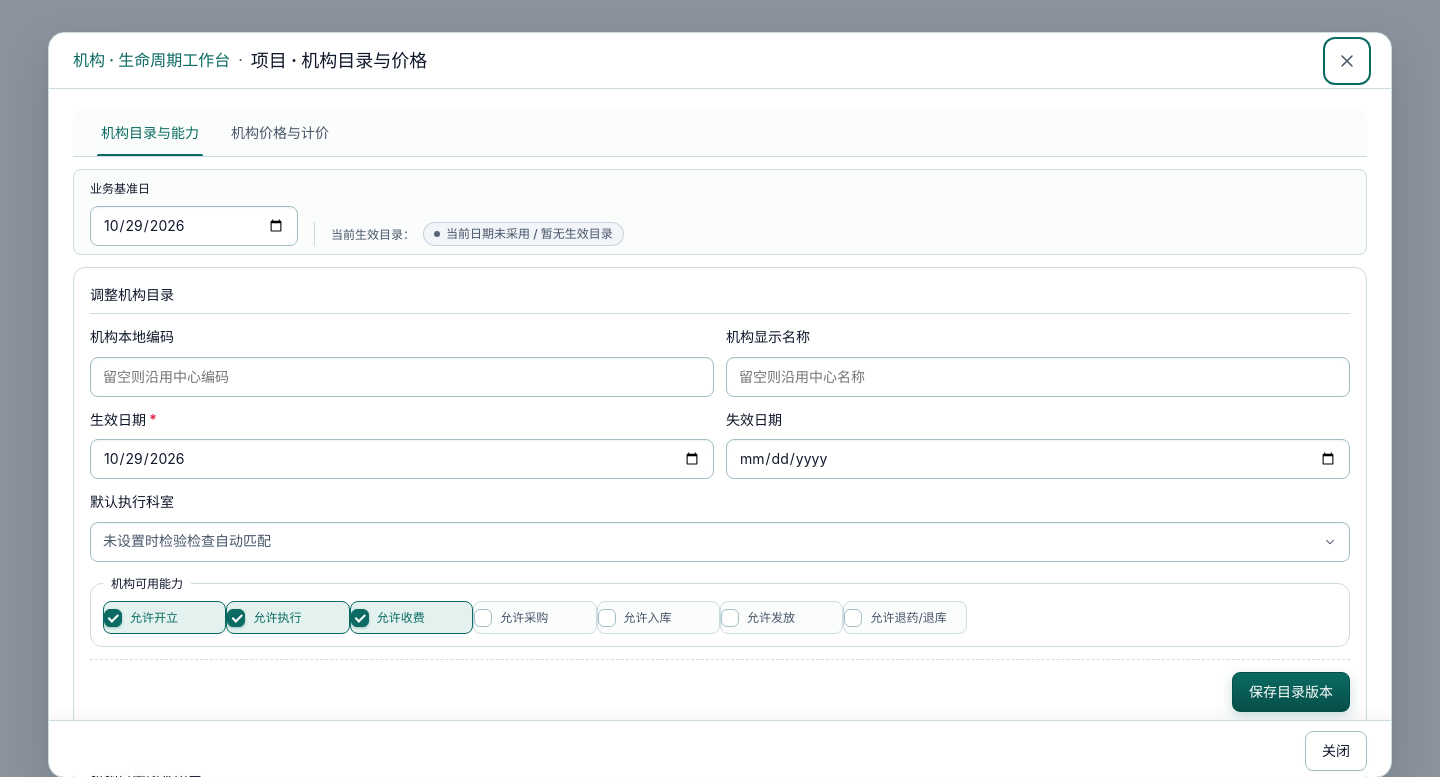
Scenario: catalog lifecycle read and draft guards › preserves both tab drafts and requires explicit discard after the directory changes
Expected: the button "保存目录版本" is shown, x1=1232 y1=672 x2=1350 y2=712
In the field labelled "机构显示名称": (1038, 377) x1=726 y1=357 x2=1350 y2=397, type "目录草稿"
Click the tab "机构价格与计价": (280, 133) x1=215 y1=109 x2=345 y2=156
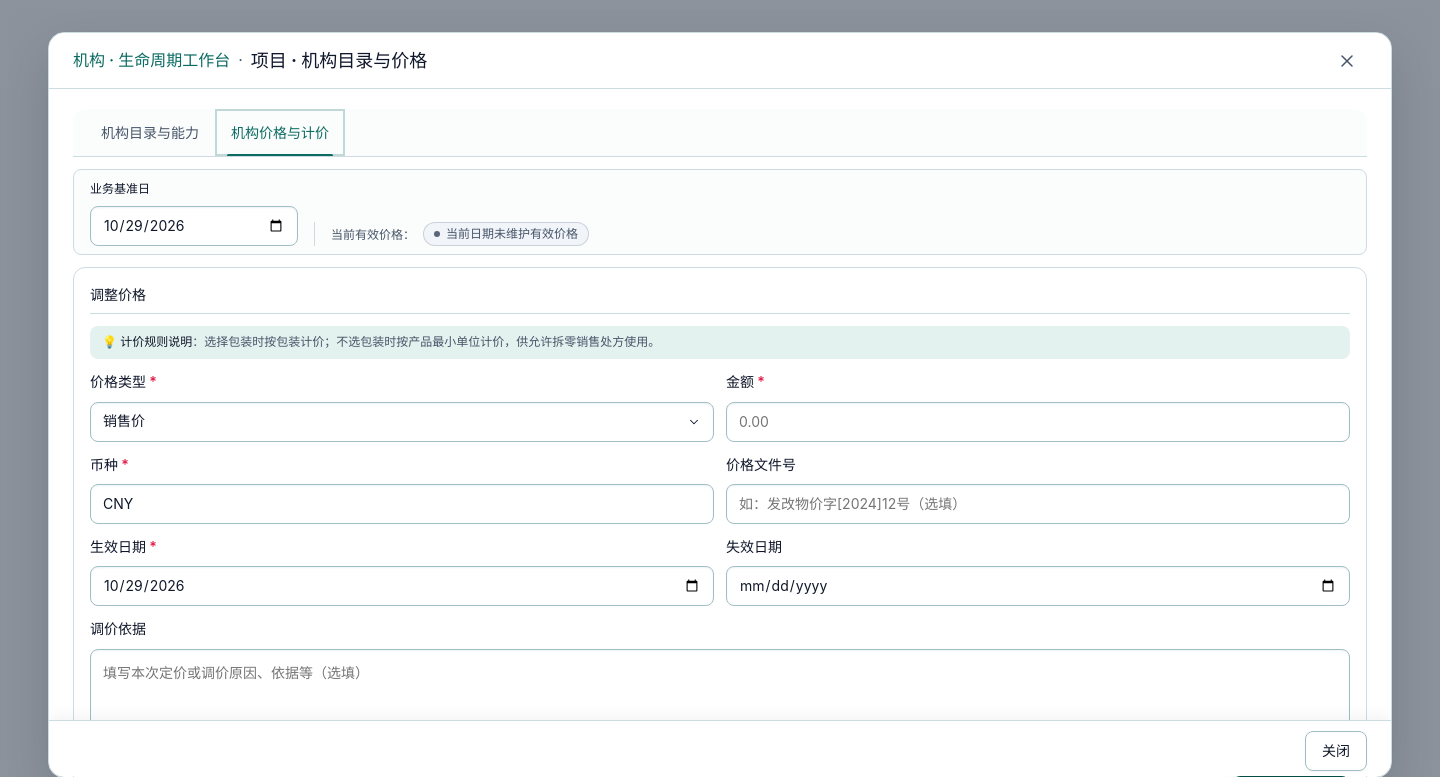
In the number field labelled "金额*": (1038, 422) x1=726 y1=402 x2=1350 y2=442, type "12.345678"
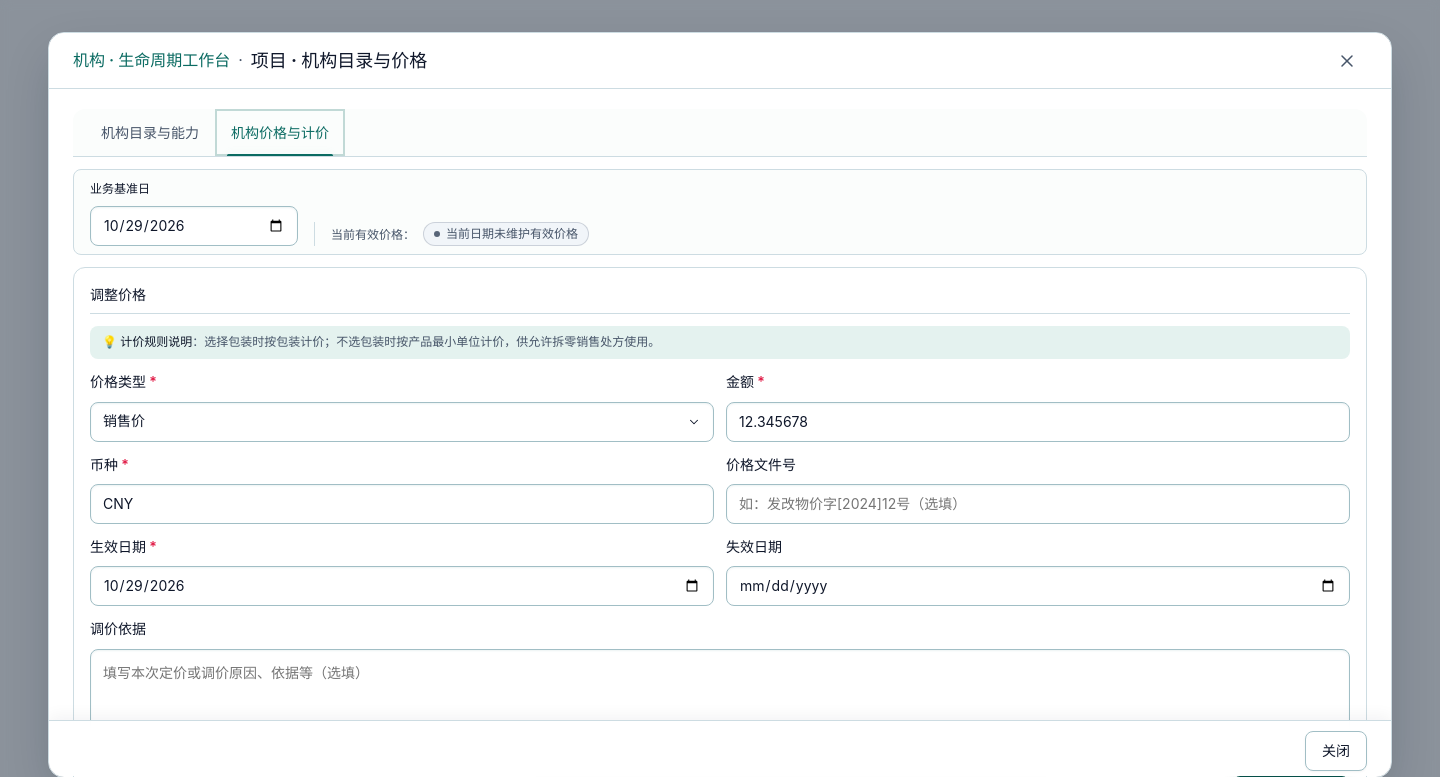
Click the tab "机构目录与能力": (150, 133) x1=85 y1=109 x2=215 y2=156
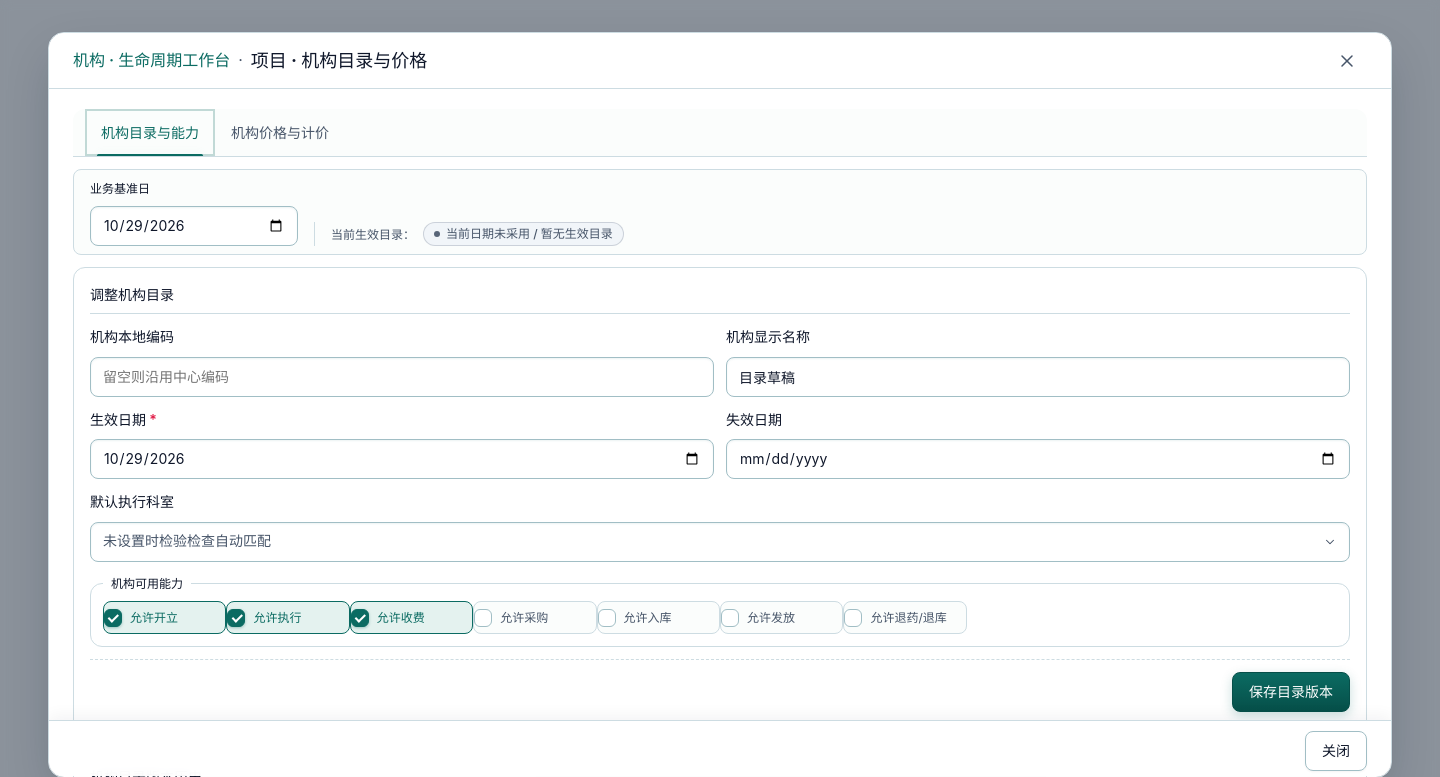
Click the tab "机构价格与计价": (280, 133) x1=215 y1=109 x2=345 y2=156
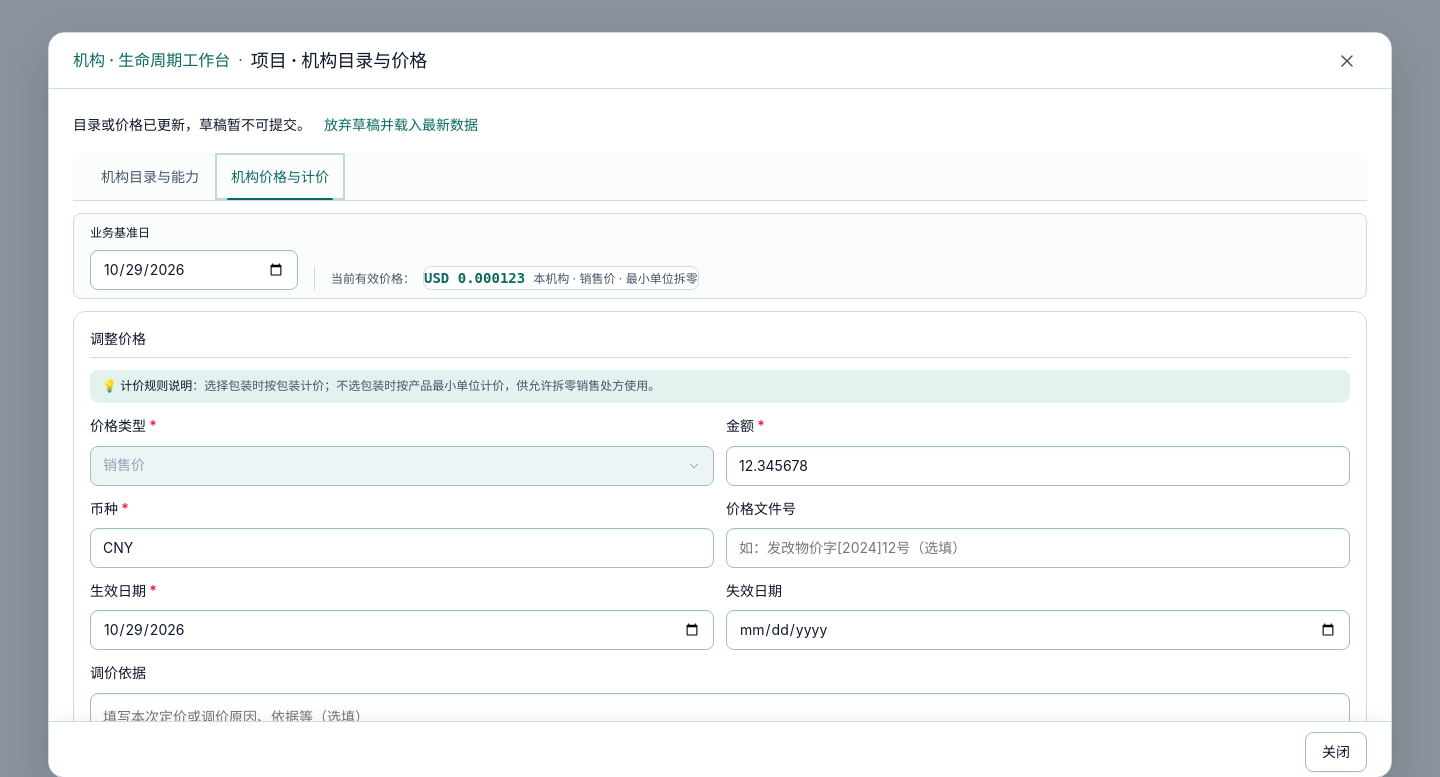
Now the text "目录或价格已更新，草稿暂不可提交。 放弃草稿并载入最新数据" is shown, box x1=73 y1=109 x2=491 y2=141
Click the button "放弃草稿并载入最新数据": (401, 125) x1=311 y1=109 x2=491 y2=141
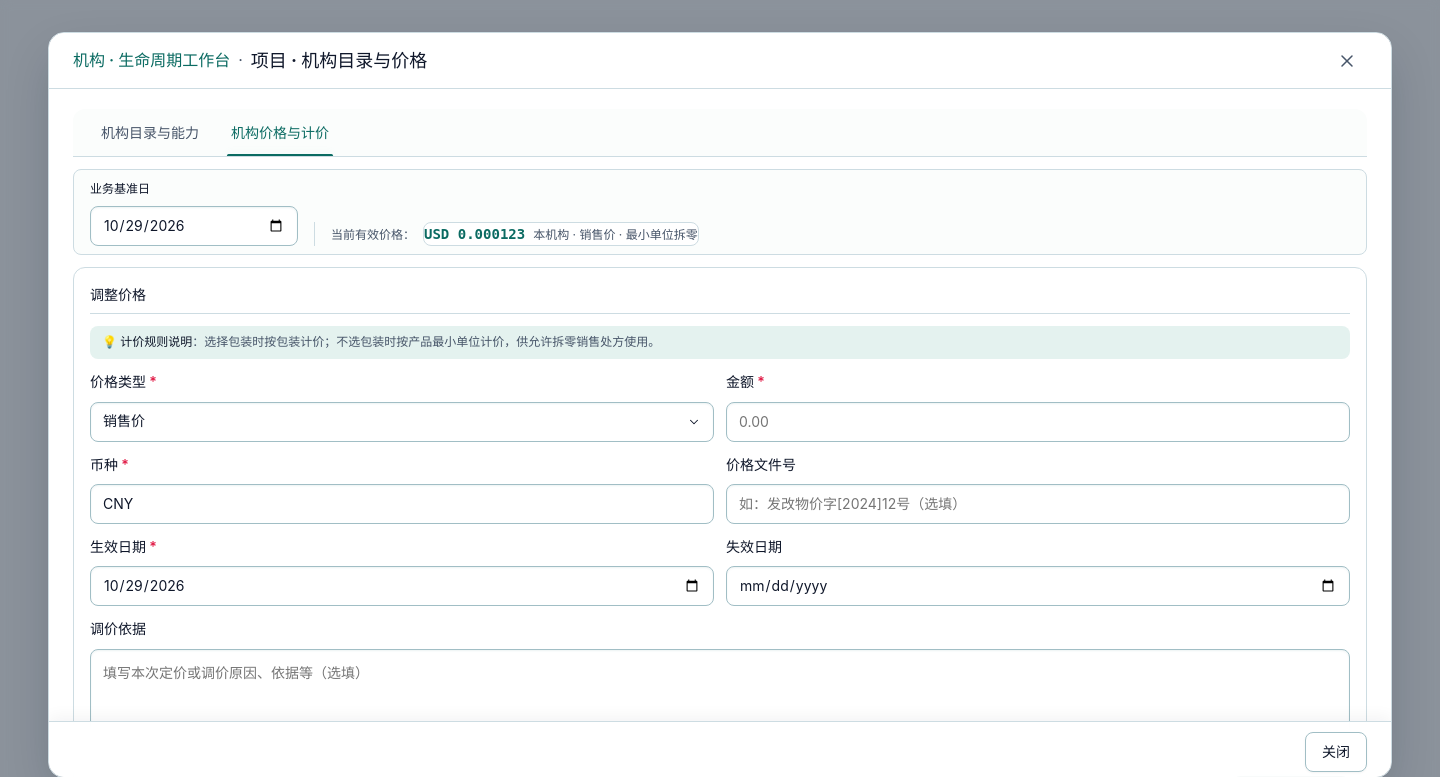
Now the number field labelled "金额*" is not empty, box x1=726 y1=402 x2=1350 y2=442
Click the tab "机构目录与能力": (150, 133) x1=85 y1=109 x2=215 y2=156
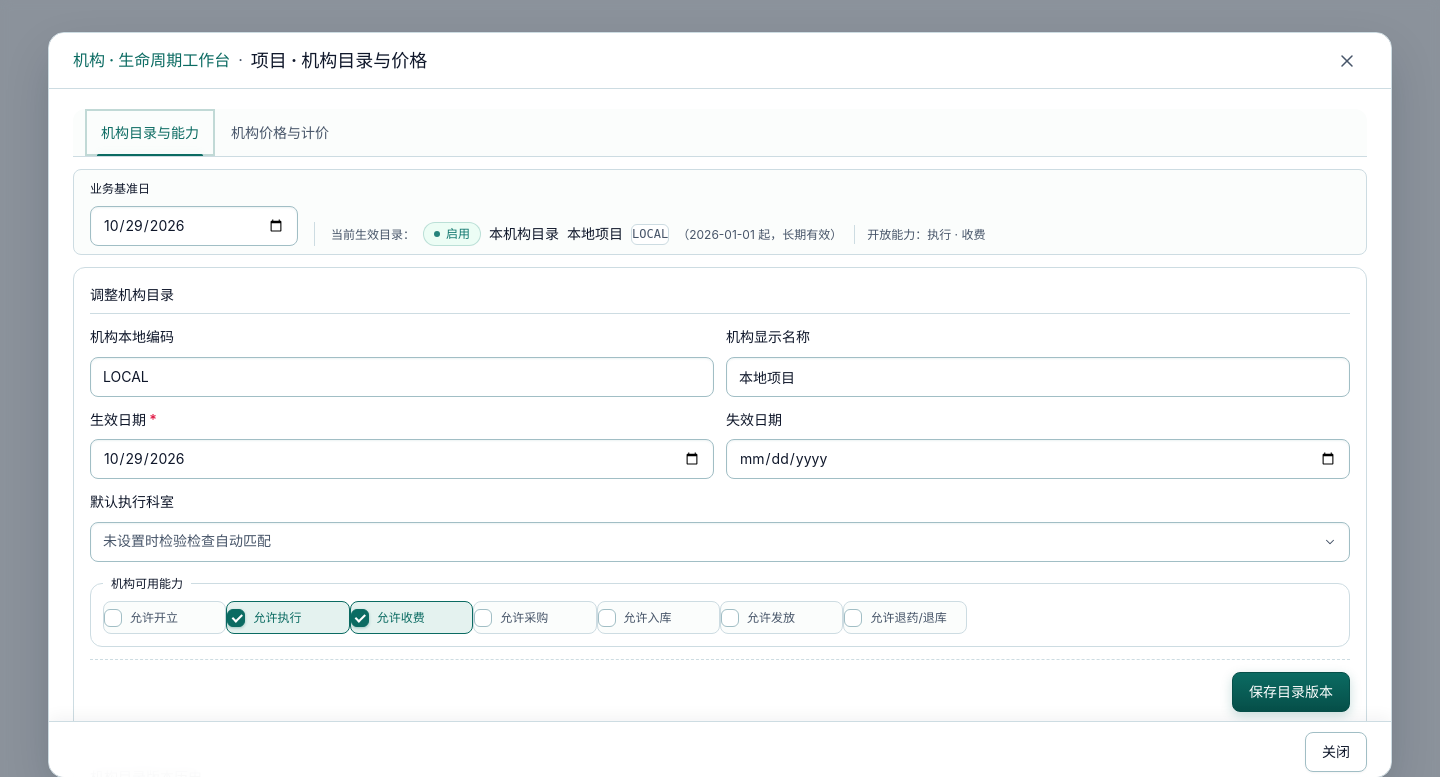
Now the field labelled "机构显示名称" holds "本地项目", box x1=726 y1=357 x2=1350 y2=397
